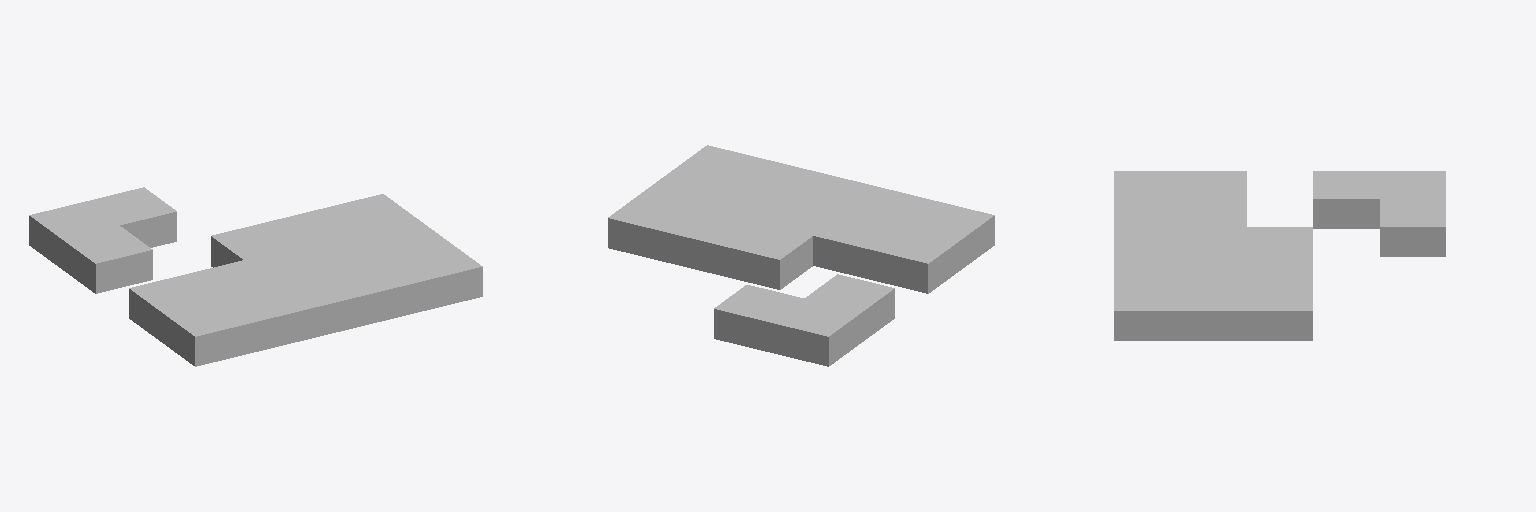
The model's file is 80f_block.obj.
3 renders of one model, left to right at view 1: azimuth 30°, elevation 25°; view 2: azimuth 150°, elevation 25°; view 3: azimuth 270°, elevation 25°, orthographic.
Parts seen in each view (by area): view 1: foil.block.0.0_block.5254, foil.block.0.3_block.5257, foil.block.4.0_block.5268, foil.block.2.0_block.5262, foil.block.1.0_block.5259, foil.block.3.0_block.5265, foil.block.1.4_block.5261, foil.block.0.4_block.5258, foil.block.0.1_block.5255, foil.block.2.2_block.5264, foil.block.1.1_block.5260, foil.block.2.1_block.5263 (+4 smaller); view 2: foil.block.0.1_block.5255, foil.block.0.4_block.5258, foil.block.2.2_block.5264, foil.block.1.1_block.5260, foil.block.3.2_block.5267, foil.block.1.4_block.5261, foil.block.4.2_block.5270, foil.block.0.0_block.5254, foil.block.0.3_block.5257, foil.block.4.1_block.5269, foil.block.2.0_block.5262, foil.block.3.0_block.5265 (+4 smaller); view 3: foil.block.0.3_block.5257, foil.block.4.1_block.5269, foil.block.1.4_block.5261, foil.block.4.0_block.5268, foil.block.4.2_block.5270, foil.block.0.1_block.5255, foil.block.1.1_block.5260, foil.block.2.1_block.5263, foil.block.3.1_block.5266, foil.block.0.0_block.5254, foil.block.0.4_block.5258, foil.block.1.0_block.5259 (+4 smaller).
Boxes of the visible parts, x1,y1,x2,y2 form: foil.block.0.0_block.5254: [162, 298, 252, 366]; foil.block.0.3_block.5257: [62, 226, 152, 293]; foil.block.4.0_block.5268: [392, 242, 482, 310]; foil.block.2.0_block.5262: [277, 270, 367, 338]; foil.block.1.0_block.5259: [220, 285, 309, 352]; foil.block.3.0_block.5265: [335, 257, 424, 324]; foil.block.1.4_block.5261: [87, 187, 176, 247]; foil.block.0.4_block.5258: [29, 201, 119, 268]; foil.block.0.1_block.5255: [129, 274, 218, 341]; foil.block.2.2_block.5264: [211, 222, 300, 267]; foil.block.1.1_block.5260: [187, 260, 276, 297]; foil.block.2.1_block.5263: [244, 246, 333, 283]; foil.block.0.1_block.5255: [871, 226, 961, 293]; foil.block.0.4_block.5258: [771, 298, 861, 366]; foil.block.2.2_block.5264: [723, 222, 812, 289]; foil.block.1.1_block.5260: [813, 212, 903, 279]; foil.block.3.2_block.5267: [665, 208, 754, 275]; foil.block.1.4_block.5261: [714, 285, 803, 352]; foil.block.4.2_block.5270: [608, 194, 696, 261]; foil.block.0.0_block.5254: [904, 201, 994, 268]; foil.block.0.3_block.5257: [805, 274, 894, 341]; foil.block.4.1_block.5269: [641, 169, 730, 207]; foil.block.2.0_block.5262: [789, 173, 878, 210]; foil.block.3.0_block.5265: [732, 159, 821, 196]; foil.block.0.3_block.5257: [1313, 171, 1379, 228]; foil.block.4.1_block.5269: [1180, 283, 1246, 340]; foil.block.1.4_block.5261: [1380, 199, 1445, 256]; foil.block.4.0_block.5268: [1114, 283, 1179, 340]; foil.block.4.2_block.5270: [1247, 283, 1312, 340]; foil.block.0.1_block.5255: [1180, 171, 1246, 198]; foil.block.1.1_block.5260: [1180, 199, 1246, 226]; foil.block.2.1_block.5263: [1180, 227, 1246, 254]; foil.block.3.1_block.5266: [1180, 255, 1246, 282]; foil.block.0.0_block.5254: [1114, 171, 1179, 198]; foil.block.0.4_block.5258: [1380, 171, 1445, 198]; foil.block.1.0_block.5259: [1114, 199, 1179, 226].
Size of the model in its own units: 10 by 1 by 10.